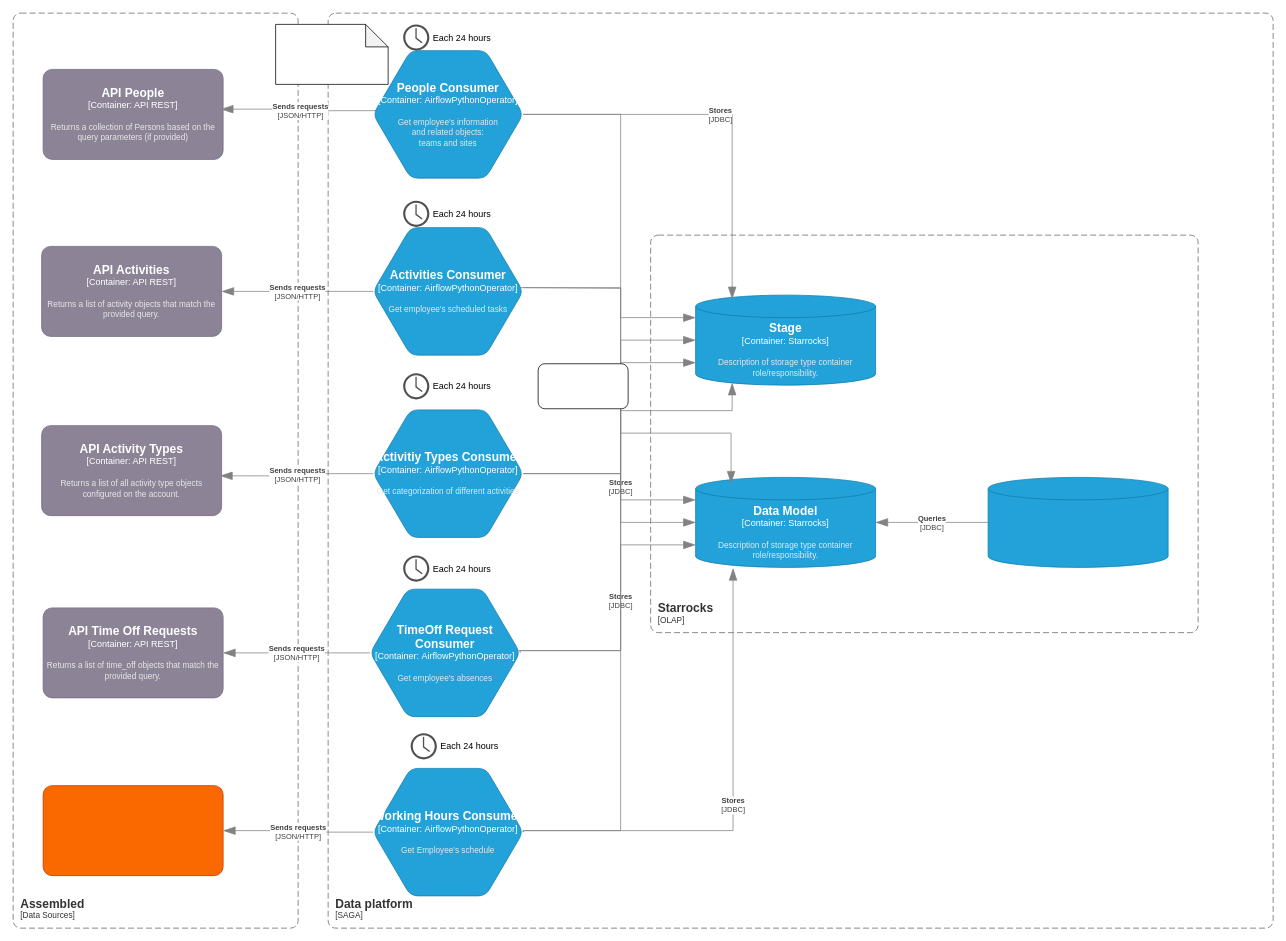
This 1286x941 diagram has some shape labels left out. The shapes that lost their labels are listed below. From the top down, each one's centre as x and y in pixels, then its label:
At pixel 331 54: "El API filters también proporciona los Teams".
At pixel 582 386: "SUBIDO A CONFLUENCE".
At pixel 1077 522: "Business Model [Container: Starrocks] PSS and BI Views".
At pixel 132 830: "API Working Hours [Container: API REST] - API NOT PROVIDED YET -".
